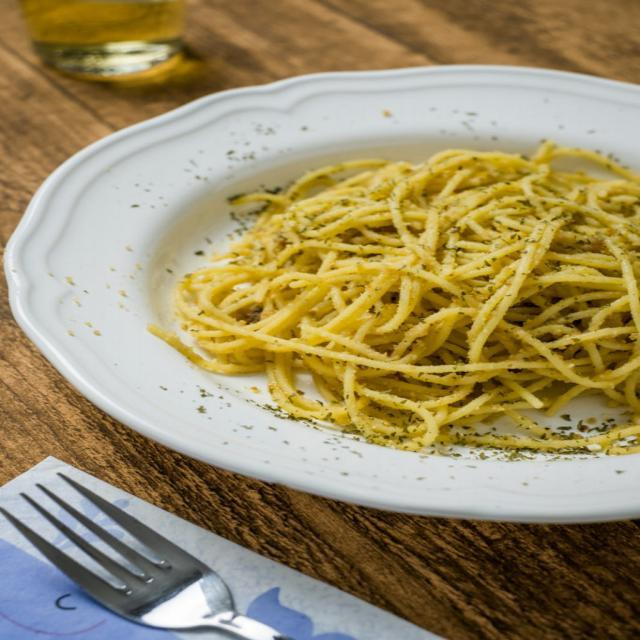Oil pasta: (84, 65, 640, 523)
